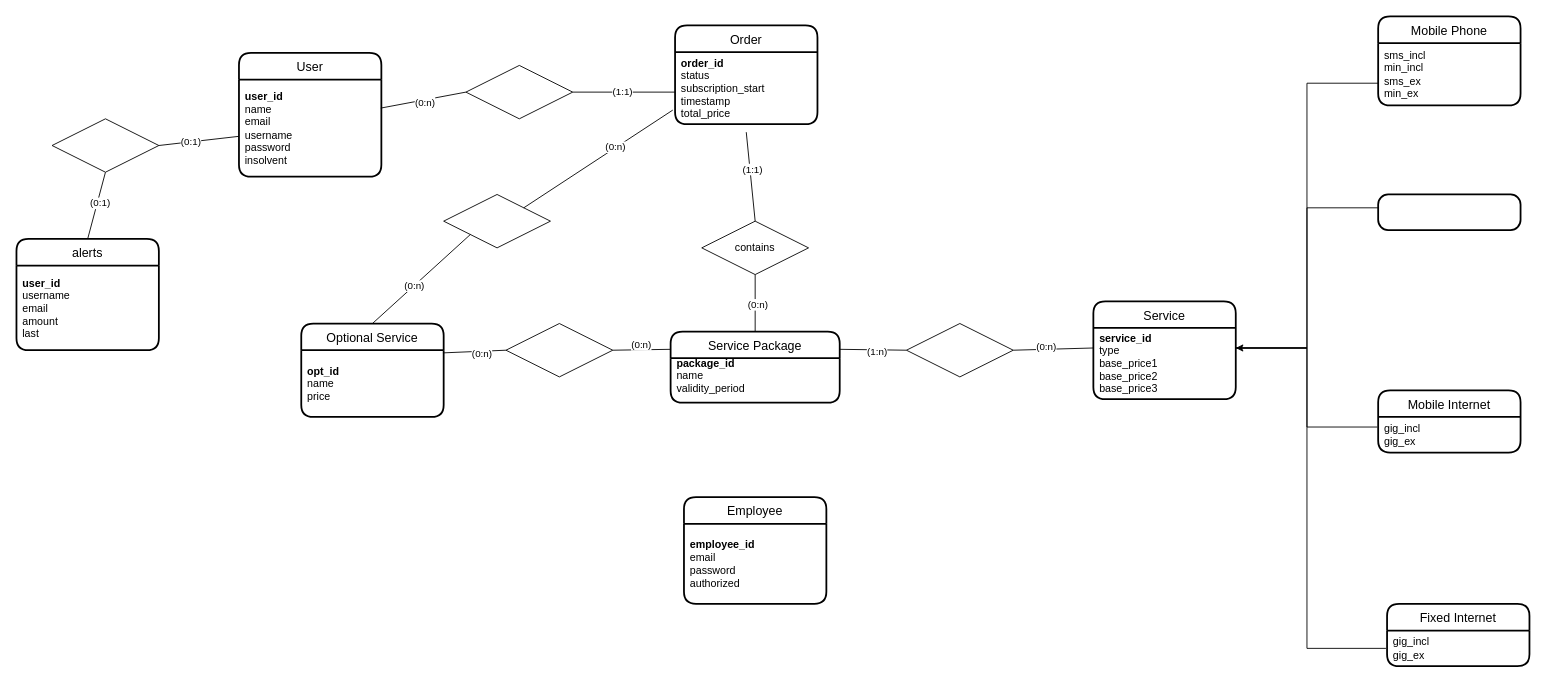
The diagram is 1545 pixels wide and 682 high, and some of its shapes have lost their labels. Here are the shapes that lost their labels. From the top down, the centre of each, then its label:
(519,92): places
(105,145): insolvent
(496,221): Purchase
(1449,212): Fixed Phone
(559,350): available
(959,350): bundles
